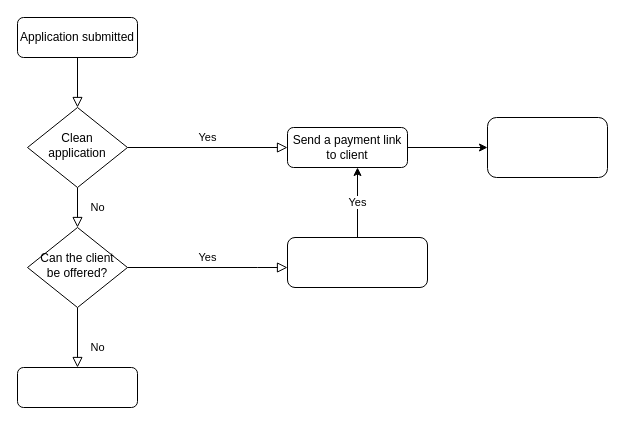
The diagram is 625 pixels wide and 425 high, and some of its shapes have lost their labels. The centre of each missing label's shape, as x and y in pixels:
"Send the offer to client's email. Does the client agree with offer?" belongs at (x=357, y=262).
"Send the rejection email to client" belongs at (x=77, y=387).
